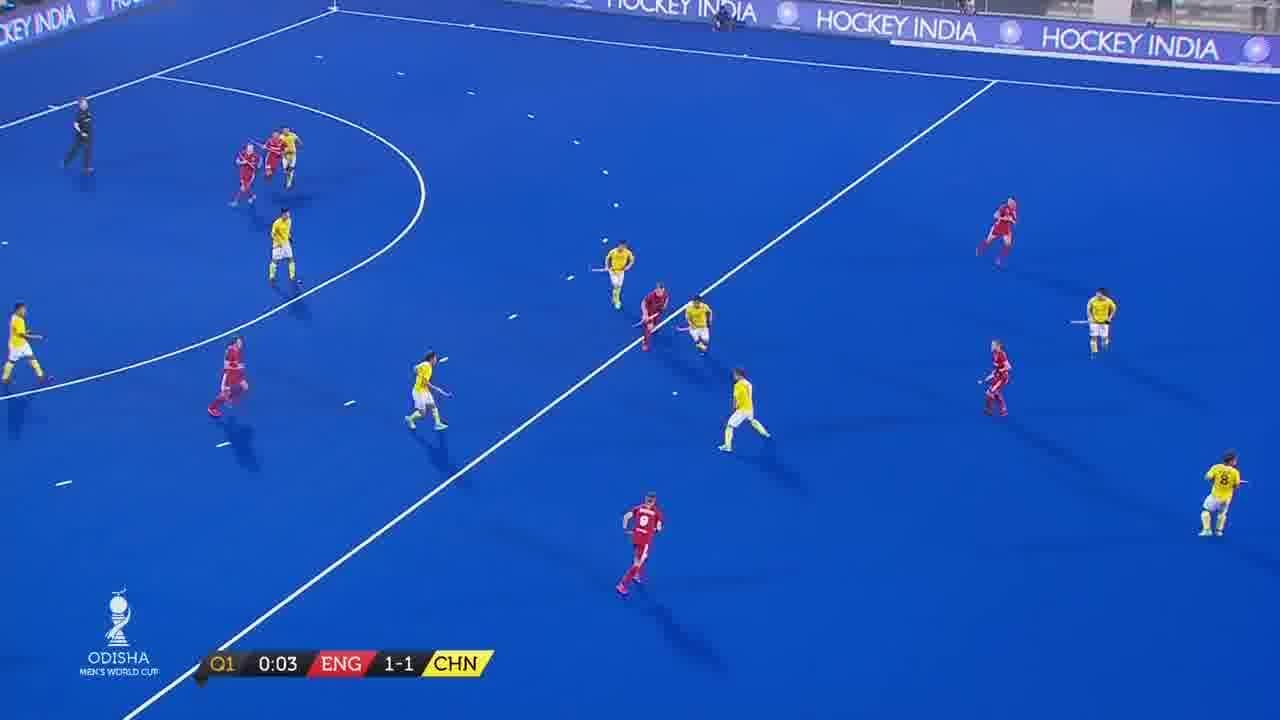ball: (672, 387, 682, 403)
